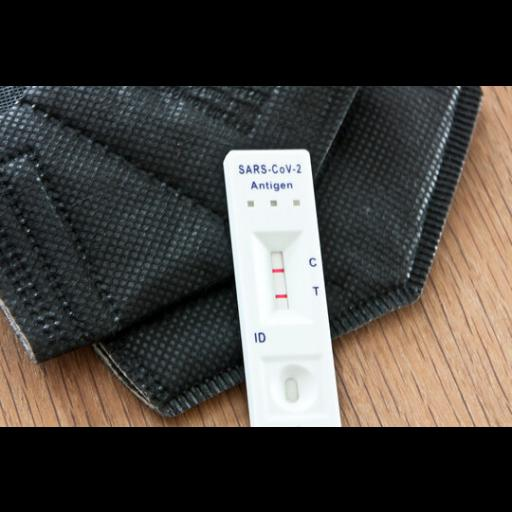Pos: (228, 150, 341, 426)
